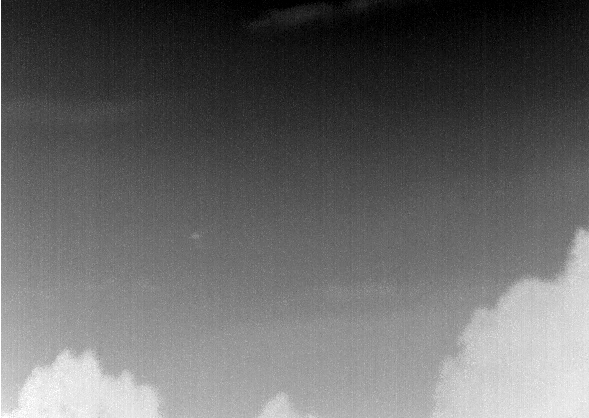dim target: (189, 231, 201, 240)
